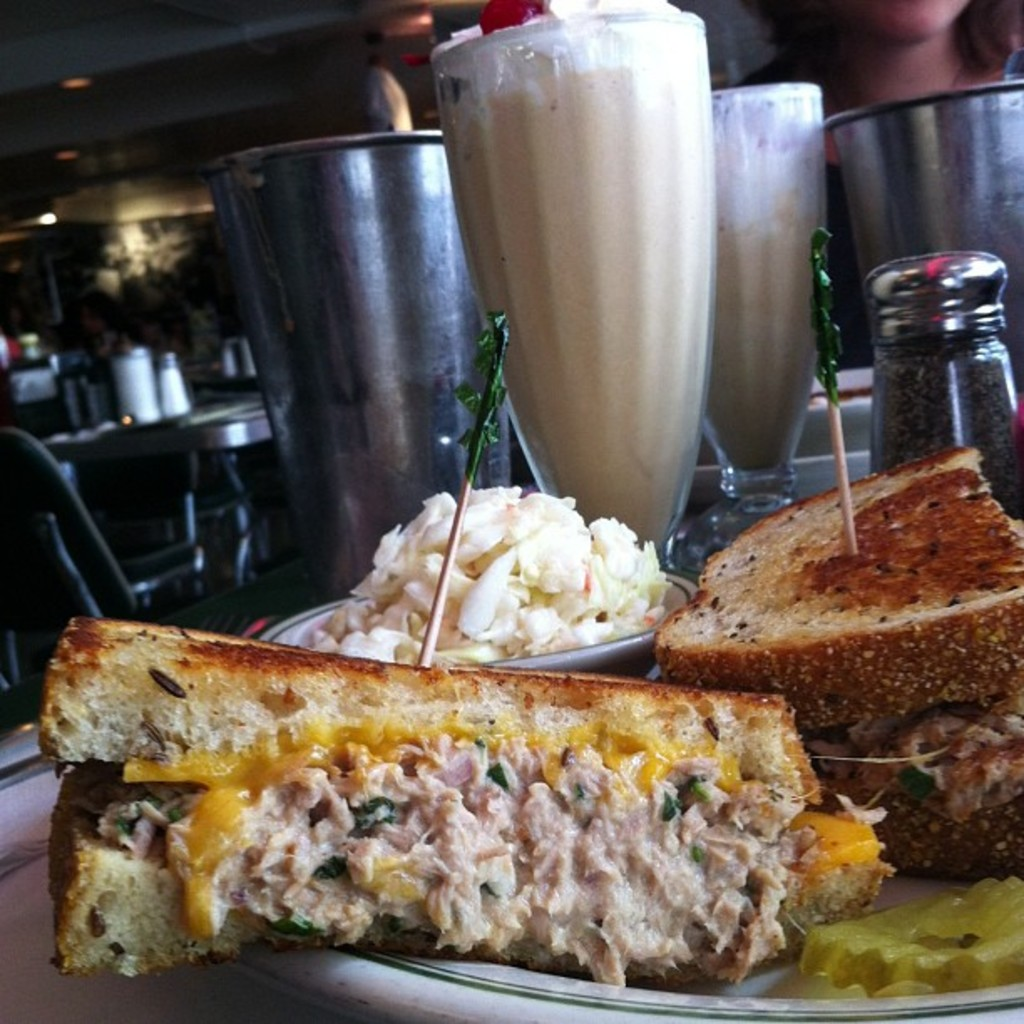sandwich: (30, 612, 893, 982), (654, 447, 1022, 875)
